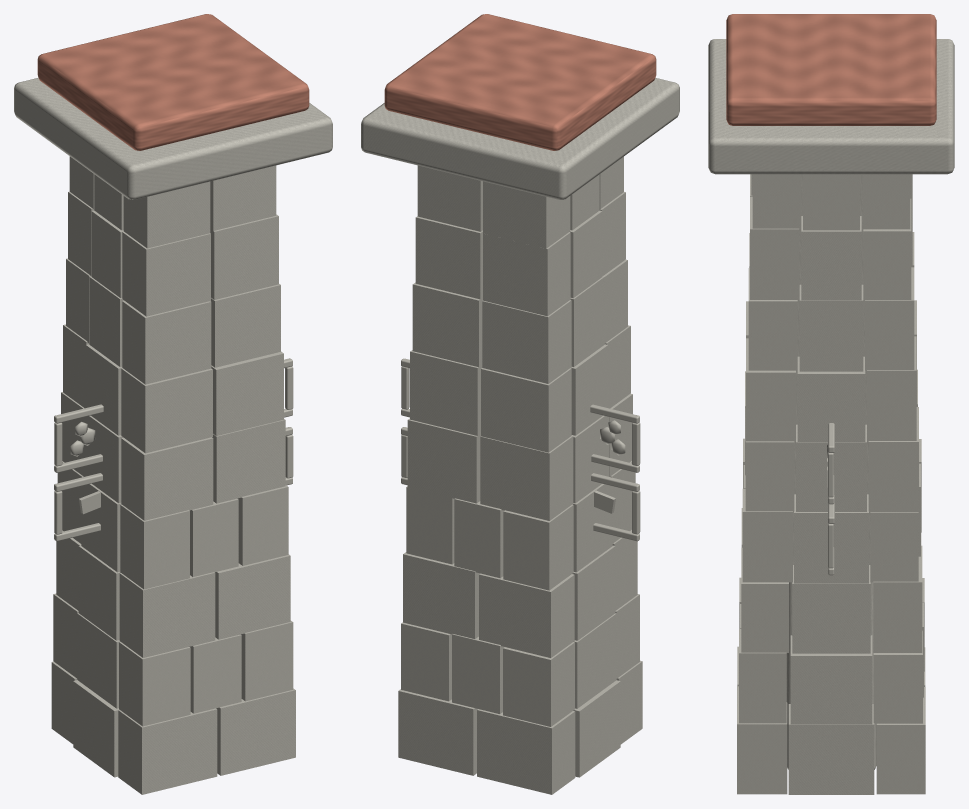
File: jungle-temple-and-stone-city-stone-corner-pier-9ee9be29__36115.glb
The picture shows the model from 3 angles, left to right: view 1: azimuth 30°, elevation 25°; view 2: azimuth 150°, elevation 25°; view 3: azimuth 270°, elevation 25°; orthographic projection. The views are drawn at different scales.
Parts seen in each view (by area): view 1: stone-corner-pier; view 2: stone-corner-pier; view 3: stone-corner-pier.
Part boxes in pixels (<box>): stone-corner-pier: <box>14,14,332,794</box>; stone-corner-pier: <box>361,14,679,794</box>; stone-corner-pier: <box>708,14,954,794</box>.
Size of the model in its own units: 1.27 by 3.45 by 1.1.
Materials: 2 (2 with a texture image).
